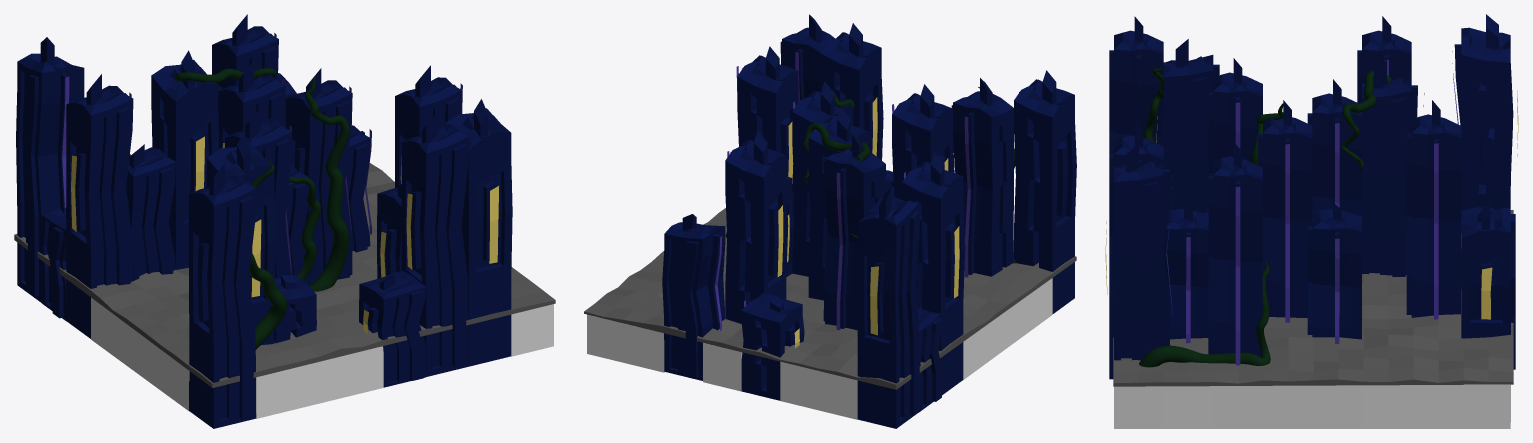
File: levelTwo-04.fbx
The picture shows the model from 3 angles, left to right: view 1: azimuth 30°, elevation 25°; view 2: azimuth 150°, elevation 25°; view 3: azimuth 270°, elevation 25°; orthographic projection. The views are drawn at different scales.
Visible parts, largest first — view 1: Floor, Cube.003, Cube.043, Cube.008, Cube.051, Cube.010, Cube.024, Cube.038, Cube.035, Cube.016, Cube.012, Cube.021 (+22 smaller); view 2: Floor, Cube.010, Cube.003, Cube.041, Cube.012, Cube.008, Cube.002, Cube.024, Cube.053, Cube.043, Cube.034, Cube.021 (+18 smaller); view 3: Floor, Cube.051, Cube.041, Cube.053, Cube.010, Cube.024, Cube.038, Cube.012, Cube.002, Cube.047, Cube.003, Cube.031 (+23 smaller).
Boxes of the visible parts, x1=… form: Floor: x1=14, y1=163, x2=555, y2=387; Cube.003: x1=189, y1=163, x2=256, y2=428; Cube.043: x1=401, y1=112, x2=468, y2=376; Cube.008: x1=66, y1=74, x2=133, y2=338; Cube.051: x1=445, y1=99, x2=512, y2=366; Cube.010: x1=16, y1=37, x2=84, y2=302; Cube.024: x1=151, y1=50, x2=219, y2=269; Cube.038: x1=285, y1=68, x2=352, y2=284; Cube.035: x1=359, y1=270, x2=426, y2=387; Cube.016: x1=126, y1=144, x2=175, y2=280; Cube.012: x1=207, y1=133, x2=275, y2=344; Cube.021: x1=225, y1=107, x2=291, y2=277; Floor: x1=584, y1=208, x2=1076, y2=389; Cube.010: x1=857, y1=187, x2=919, y2=428; Cube.003: x1=1014, y1=70, x2=1076, y2=313; Cube.041: x1=725, y1=131, x2=788, y2=323; Cube.012: x1=951, y1=78, x2=1013, y2=276; Cube.008: x1=902, y1=152, x2=965, y2=395; Cube.002: x1=662, y1=214, x2=725, y2=380; Cube.024: x1=823, y1=134, x2=885, y2=330; Cube.053: x1=737, y1=46, x2=798, y2=209; Cube.043: x1=820, y1=23, x2=883, y2=160; Cube.034: x1=741, y1=292, x2=804, y2=400; Cube.021: x1=892, y1=84, x2=954, y2=199; Floor: x1=1113, y1=210, x2=1513, y2=386; Cube.051: x1=1111, y1=143, x2=1169, y2=360; Cube.041: x1=1406, y1=100, x2=1461, y2=317; Cube.053: x1=1208, y1=142, x2=1262, y2=357; Cube.010: x1=1454, y1=14, x2=1513, y2=210; Cube.024: x1=1362, y1=60, x2=1417, y2=276; Cube.038: x1=1258, y1=100, x2=1312, y2=317; Cube.012: x1=1161, y1=39, x2=1219, y2=213; Cube.002: x1=1461, y1=203, x2=1515, y2=369; Cube.047: x1=1307, y1=203, x2=1361, y2=339; Cube.003: x1=1109, y1=16, x2=1163, y2=154; Cube.031: x1=1307, y1=79, x2=1361, y2=216.
Bounding box in the file's own units: 1635 × 1139 × 1666.
